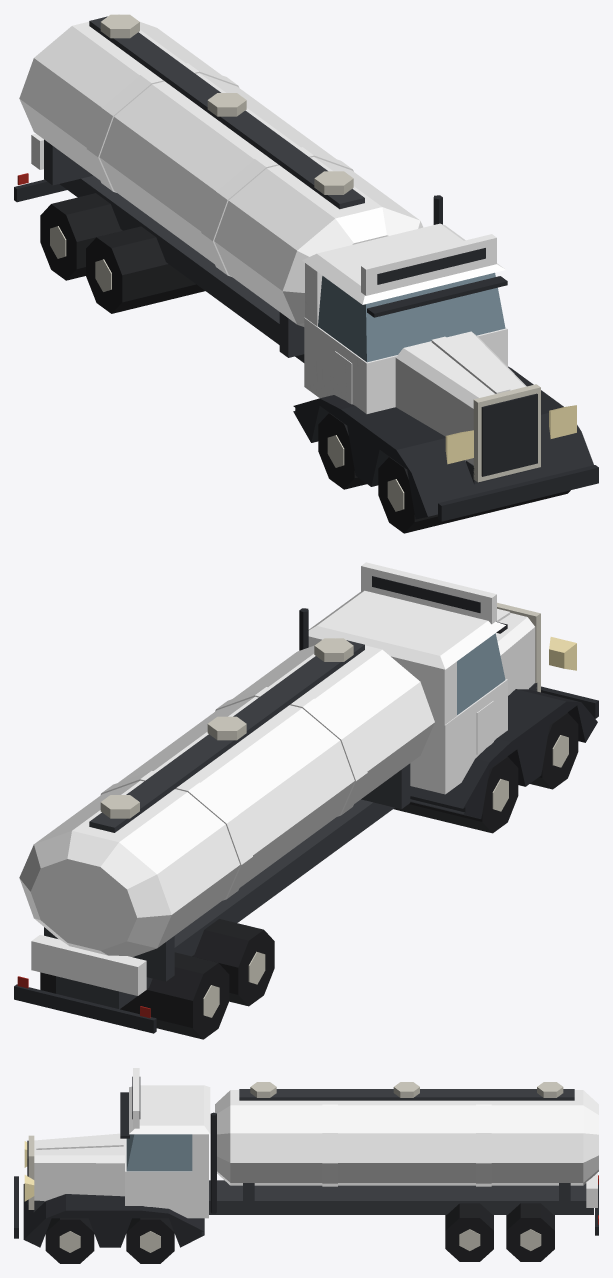
Rendered from heavy_tanker.glb.
The picture shows the model from 3 angles, top to bottom: view 1: azimuth 30°, elevation 25°; view 2: azimuth 150°, elevation 25°; view 3: azimuth 270°, elevation 25°; orthographic projection. The views are drawn at different scales.
Parts seen in each view (by area): view 1: model; view 2: model; view 3: model.
Boxes of the visible parts, x1,y1,x2,y2 form: model: (14, 14, 598, 533); model: (14, 562, 598, 1039); model: (14, 1068, 598, 1263).
Size of the model in its own units: 2.7 by 3.4 by 12.
